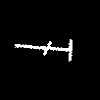double_crochet: (15, 39, 71, 60)
